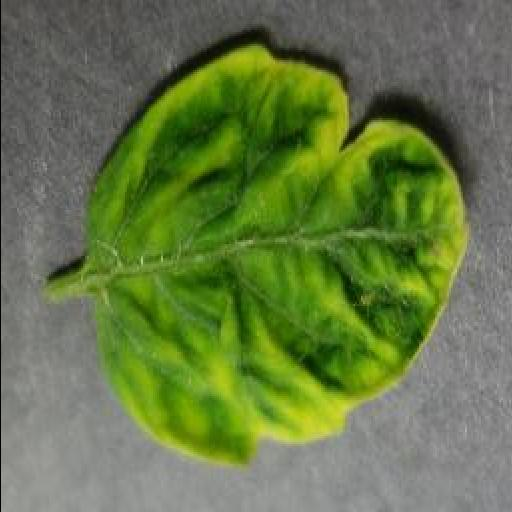disease_tomato: (88, 50, 470, 467)
